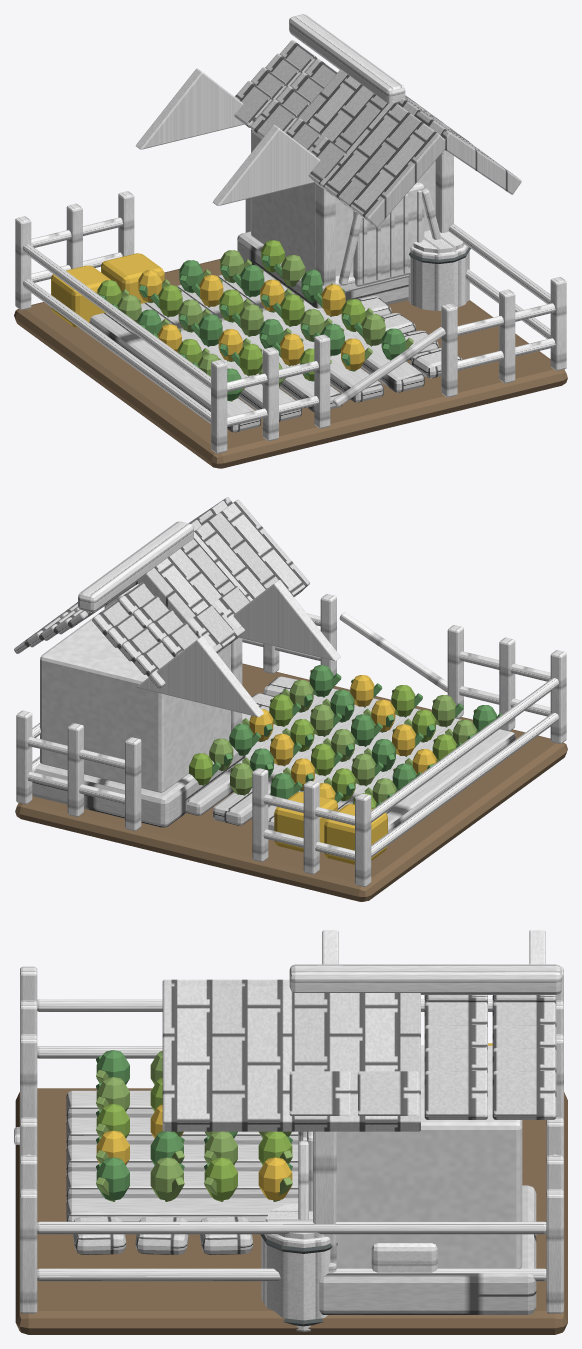
File: farm.glb
3 views of the same model, one above another, from view 1: azimuth 30°, elevation 25°; view 2: azimuth 150°, elevation 25°; view 3: azimuth 270°, elevation 25° (orthographic). The views are drawn at different scales.
Visible parts, largest first — view 1: Farmstead_Geometry; view 2: Farmstead_Geometry; view 3: Farmstead_Geometry.
Boxes of the visible parts, box(x1,y1,x2,y2) form: Farmstead_Geometry: box(14, 14, 567, 468); Farmstead_Geometry: box(14, 497, 567, 901); Farmstead_Geometry: box(14, 930, 567, 1334).
Bounding box in the file's own units: 2.38 × 1.53 × 2.36.
Materials: 17 (11 with a texture image).
